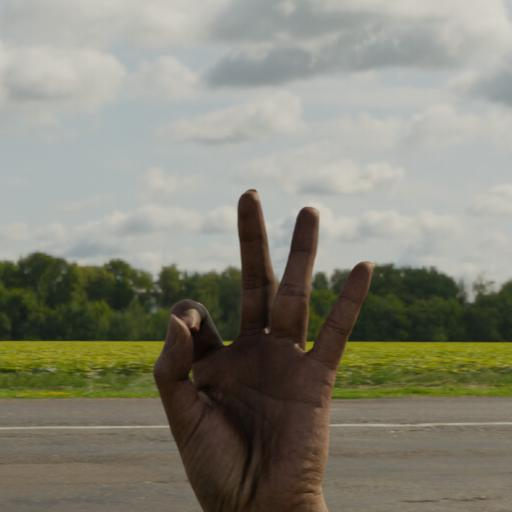F: (106, 163, 409, 512)
